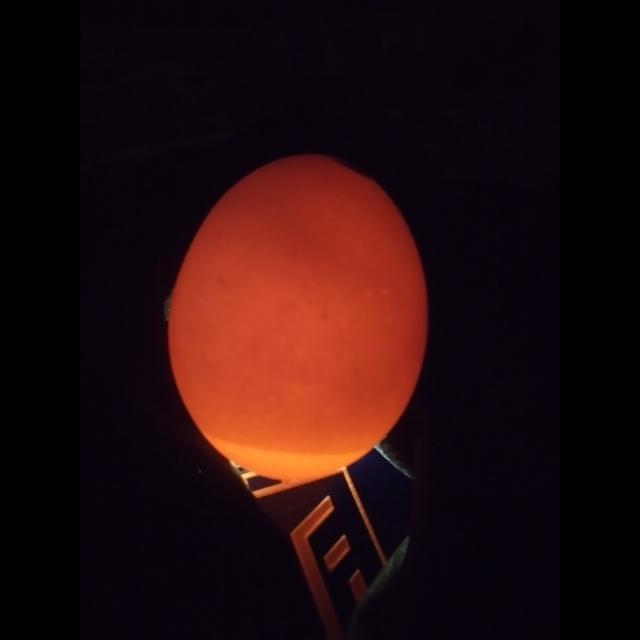Infertile: (174, 157, 430, 480)
